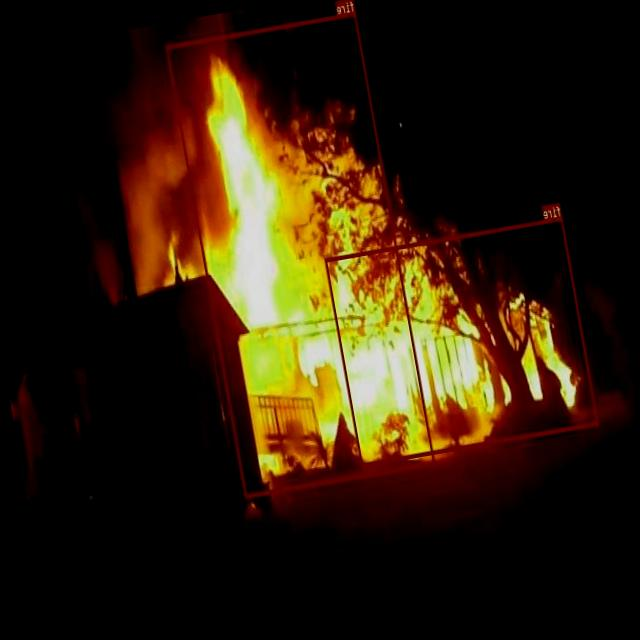fire: (165, 10, 435, 497), (324, 215, 599, 466)
